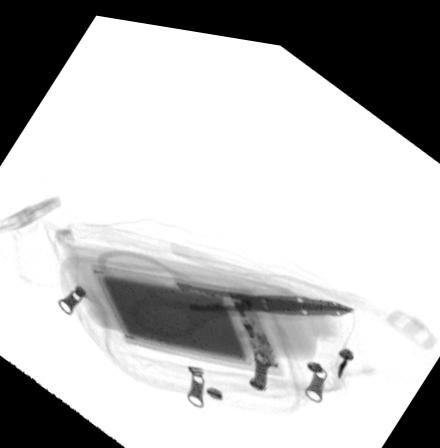Powerbank: (84, 258, 289, 372)
Scissors: (95, 246, 352, 335)
